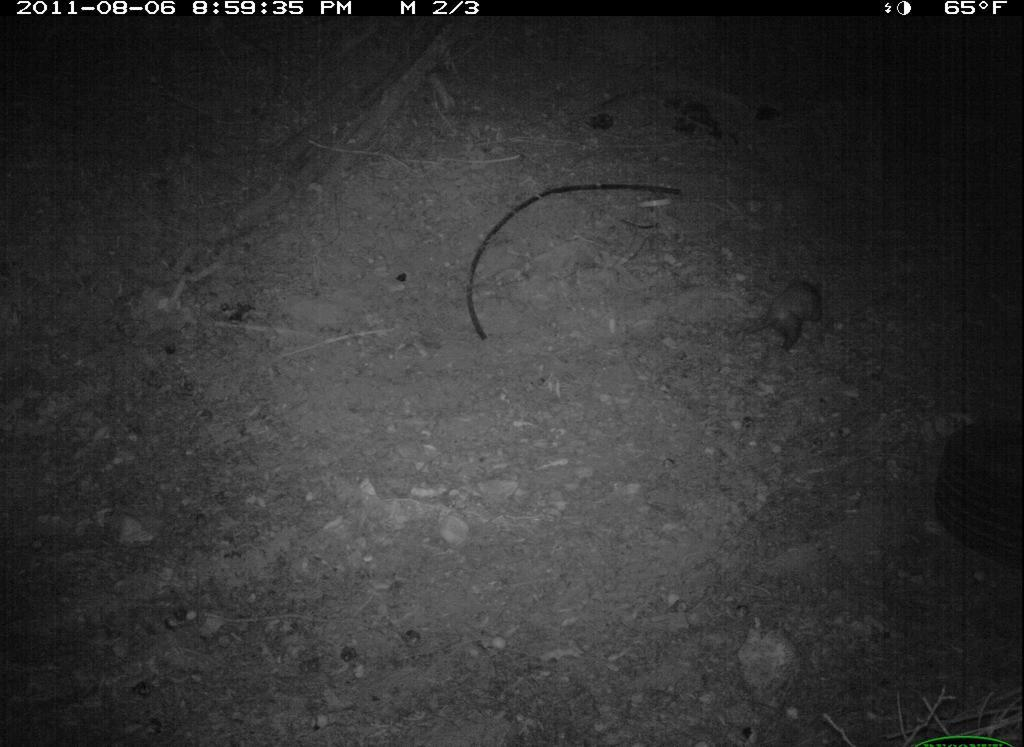opossum: (738, 267, 840, 373)
